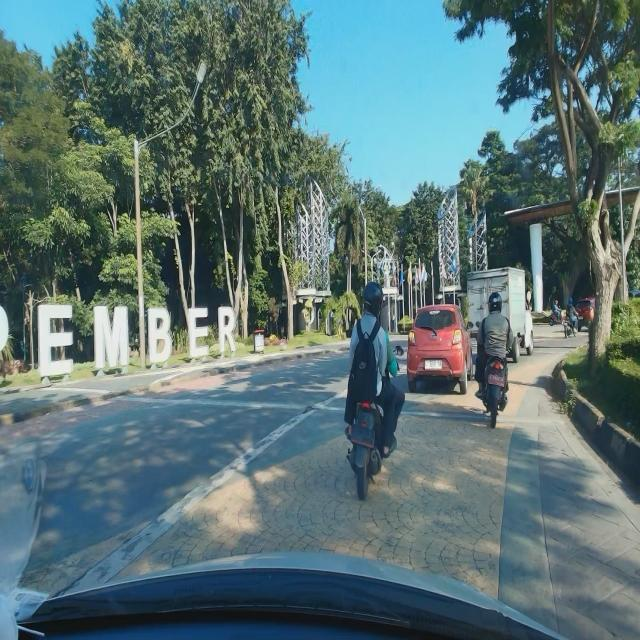car: (406, 302, 474, 394)
license-plate: (425, 359, 442, 370)
truck: (464, 263, 536, 363)
